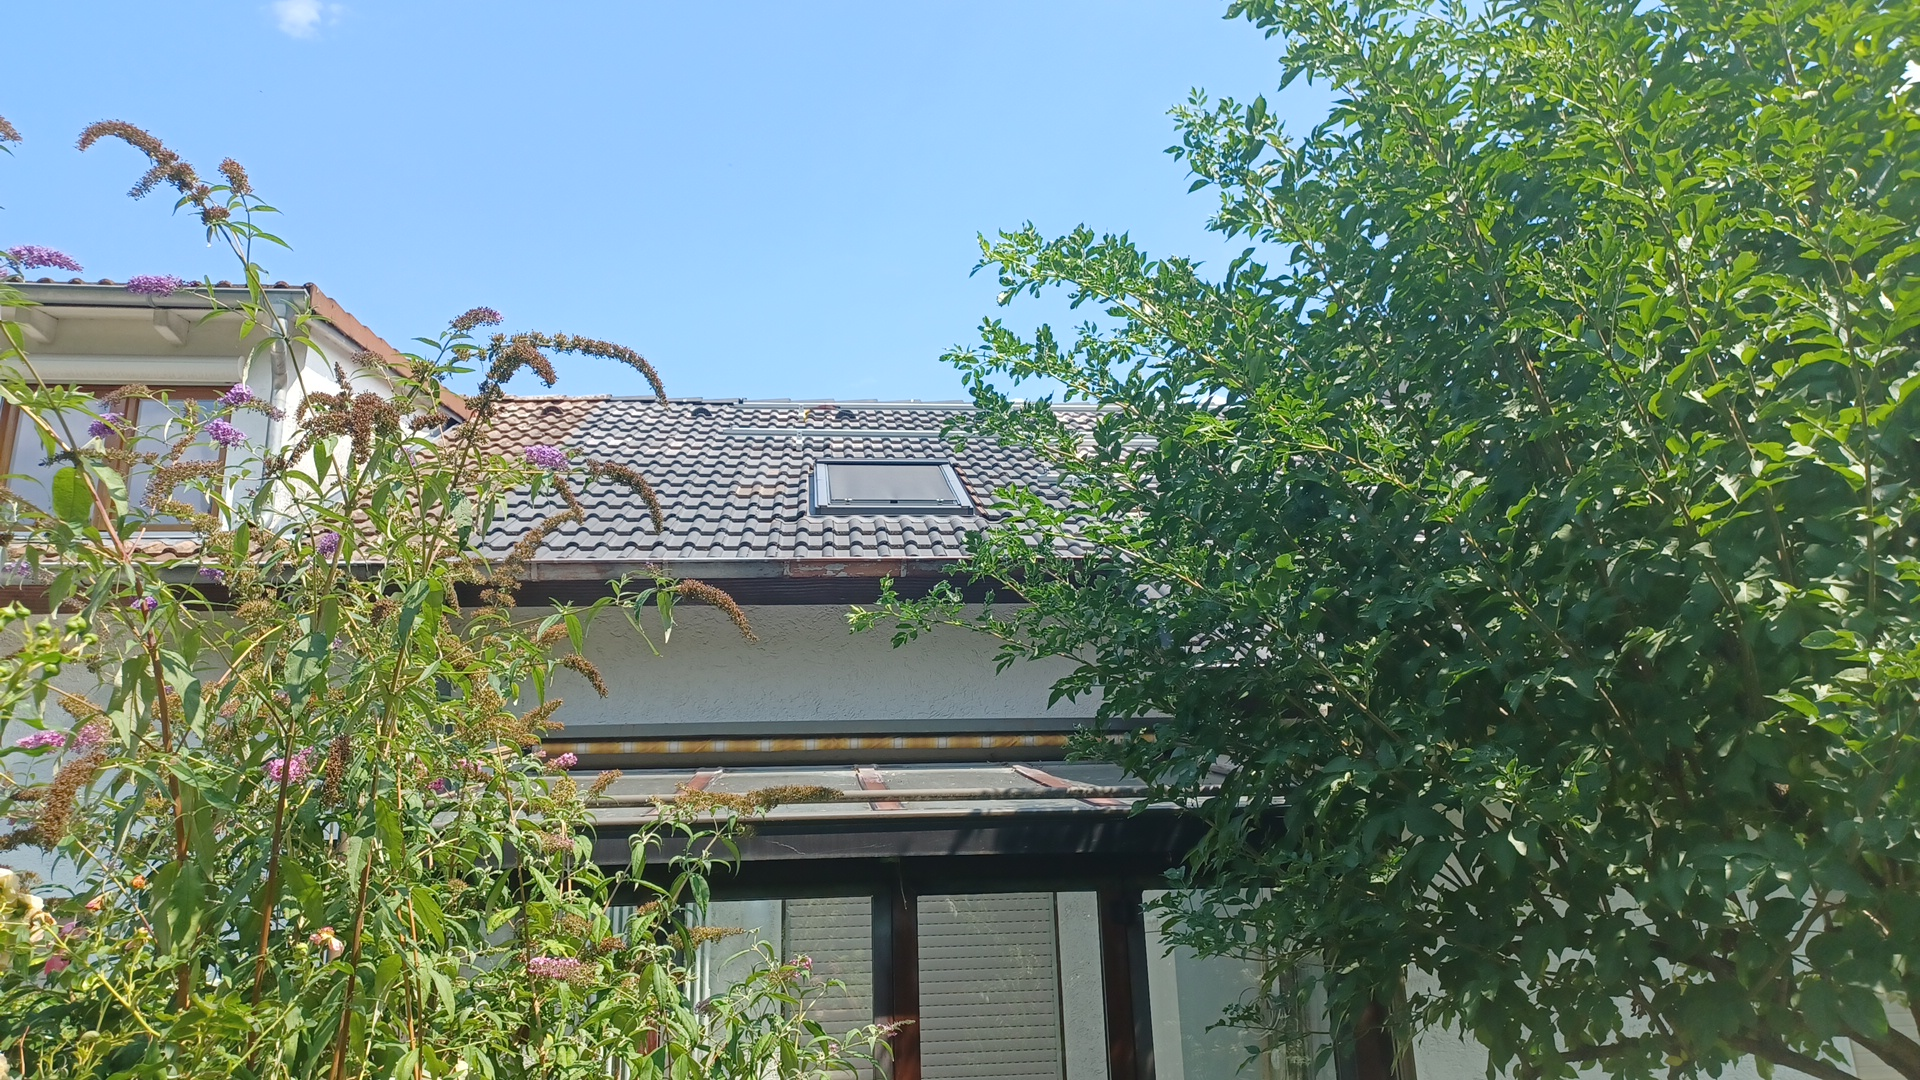hook: (798, 404, 804, 422), (796, 429, 802, 451)
